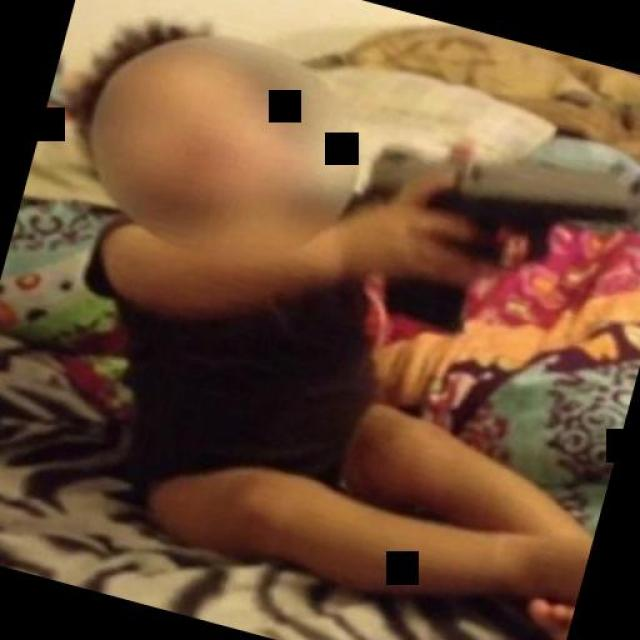gun: (334, 105, 640, 375)
